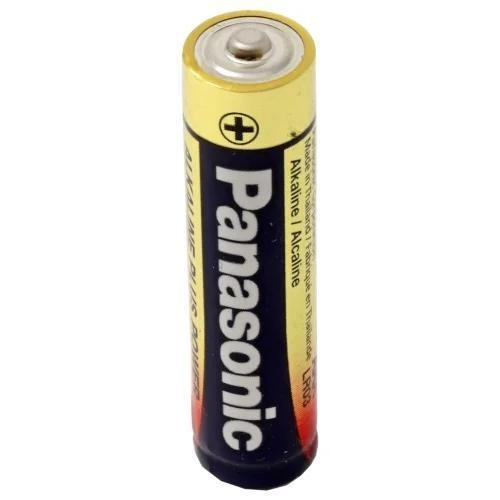AA: (180, 6, 322, 494)
